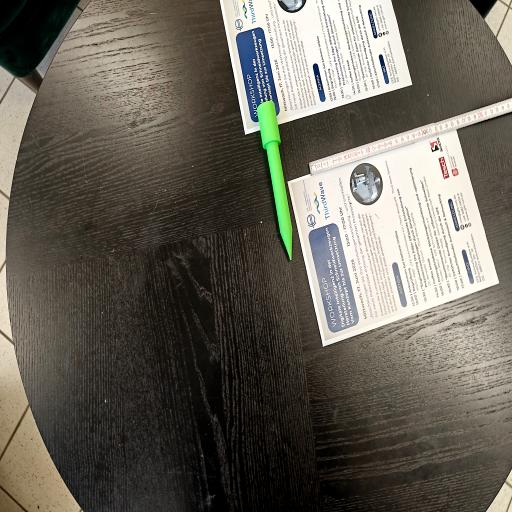Probe-Detection: (257, 100, 292, 260)
